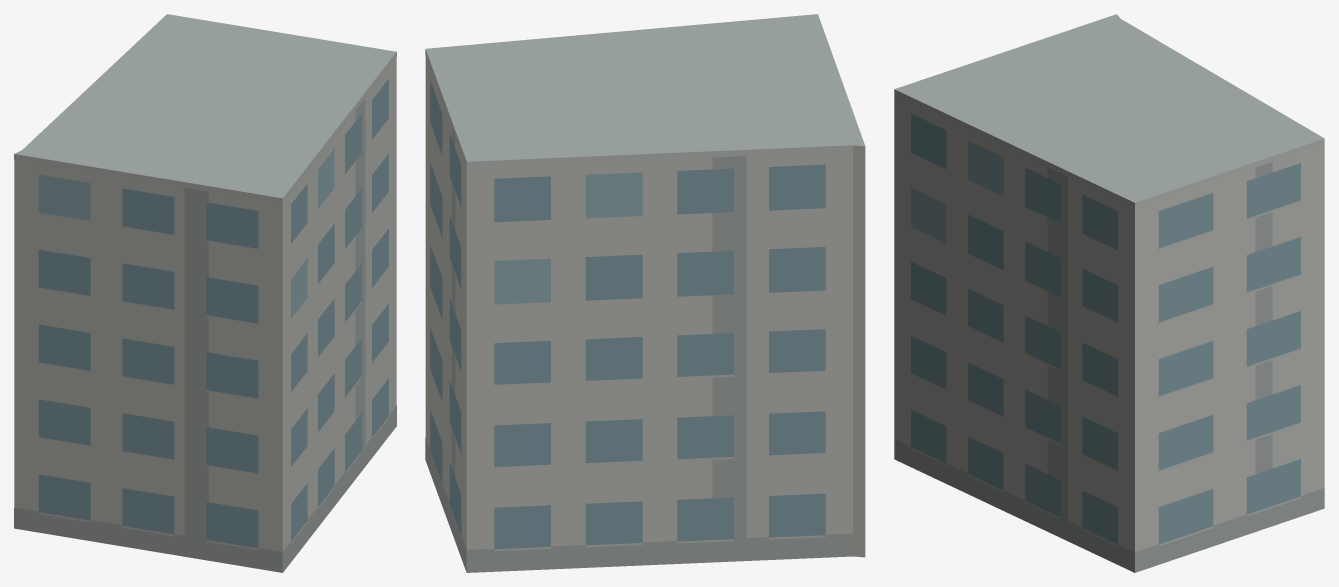
Rendered from survey-upis-32835659.glb.
The picture shows the model from 3 angles, left to right: view 1: azimuth 30°, elevation 25°; view 2: azimuth 150°, elevation 25°; view 3: azimuth 270°, elevation 25°; orthographic projection. The views are drawn at different scales.
Parts seen in each view (by area): view 1: survey-upis-32835659.tmp; view 2: survey-upis-32835659.tmp; view 3: survey-upis-32835659.tmp.
Part boxes in pixels (<box>): survey-upis-32835659.tmp: <box>14,14,396,572</box>; survey-upis-32835659.tmp: <box>425,14,865,572</box>; survey-upis-32835659.tmp: <box>894,14,1324,572</box>.
Bounding box in the file's own units: 17.41 × 15.9 × 16.77.
